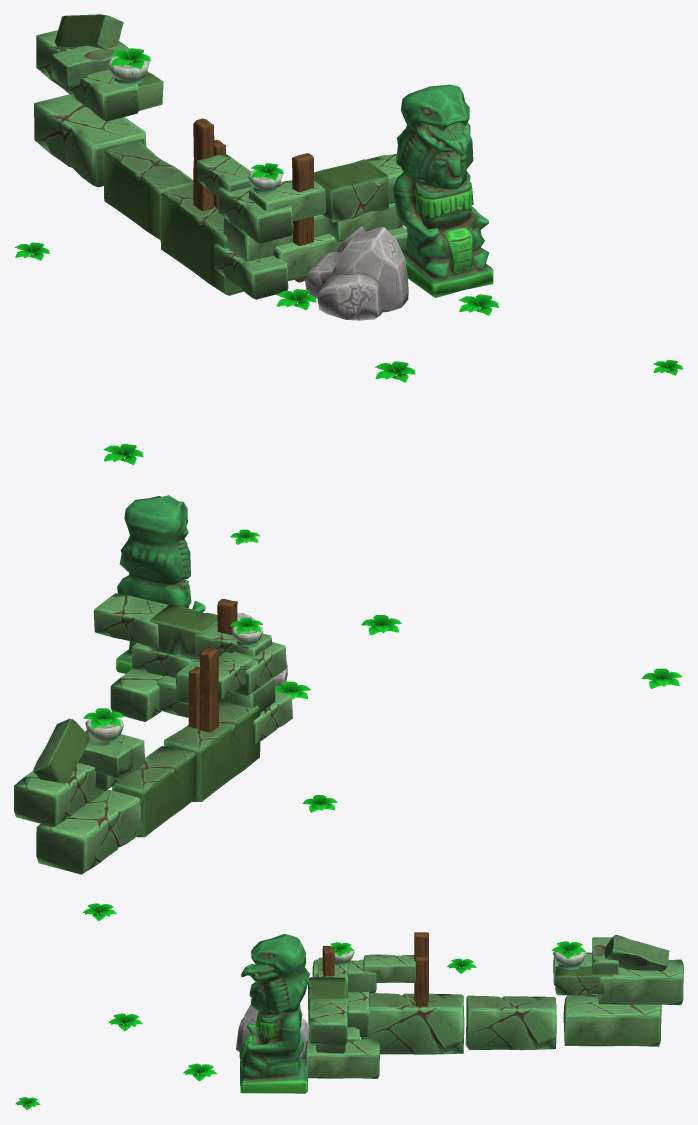
The model's file is deco_up_right.obj.
3 views of the same model, one above another, from view 1: azimuth 30°, elevation 25°; view 2: azimuth 150°, elevation 25°; view 3: azimuth 270°, elevation 25° (orthographic). The views are drawn at different scales.
Parts seen in each view (by area): view 1: Cube_001.001, rock1_low.003, brick3_low.037, brick3_low.033, brick3_low.075, brick3_low.081, brick3_low.079, brick3_low.077, brick3_low.083, brick2_low.015, brick2_low.014, brick3_low.054 (+10 smaller); view 2: Cube_001.001, brick3_low.037, brick3_low.075, brick3_low.033, brick3_low.076, brick3_low.082, brick3_low.081, brick2_low.015, brick3_low.113, wood1.020, brick2_low.014, brick3_low.079 (+9 smaller); view 3: Cube_001.001, brick3_low.075, brick3_low.033, brick3_low.037, brick3_low.076, brick3_low.113, brick3_low.082, brick2_low.015, brick3_low.080, brick3_low.031, brick3_low.081, brick3_low.079 (+12 smaller).
Boxes of the visible parts, x1=… form: Cube_001.001: x1=393, y1=84, x2=493, y2=297; rock1_low.003: x1=305, y1=226, x2=408, y2=320; brick3_low.037: x1=34, y1=94, x2=146, y2=187; brick3_low.033: x1=103, y1=141, x2=193, y2=239; brick3_low.075: x1=159, y1=184, x2=243, y2=295; brick3_low.081: x1=314, y1=159, x2=389, y2=222; brick3_low.079: x1=218, y1=186, x2=292, y2=243; brick3_low.077: x1=214, y1=244, x2=288, y2=299; brick3_low.083: x1=65, y1=69, x2=139, y2=121; brick2_low.015: x1=54, y1=14, x2=123, y2=49; brick2_low.014: x1=51, y1=41, x2=129, y2=87; brick3_low.054: x1=248, y1=180, x2=325, y2=221; Cube_001.001: x1=116, y1=495, x2=205, y2=673; brick3_low.037: x1=36, y1=789, x2=141, y2=874; brick3_low.075: x1=164, y1=700, x2=260, y2=801; brick3_low.033: x1=112, y1=746, x2=196, y2=837; brick3_low.076: x1=14, y1=762, x2=106, y2=827; brick3_low.082: x1=93, y1=593, x2=168, y2=648; brick3_low.081: x1=149, y1=604, x2=217, y2=662; brick2_low.015: x1=33, y1=718, x2=90, y2=783; brick3_low.113: x1=110, y1=668, x2=163, y2=721; wood1.020: x1=199, y1=646, x2=218, y2=732; brick2_low.014: x1=78, y1=736, x2=132, y2=777; brick3_low.079: x1=232, y1=642, x2=286, y2=695; Cube_001.001: x1=239, y1=934, x2=310, y2=1093; brick3_low.075: x1=361, y1=993, x2=464, y2=1054; brick3_low.033: x1=465, y1=995, x2=556, y2=1050; brick3_low.037: x1=563, y1=994, x2=661, y2=1046; brick3_low.076: x1=598, y1=959, x2=683, y2=1005; brick3_low.113: x1=305, y1=1039, x2=380, y2=1078; brick3_low.082: x1=309, y1=997, x2=348, y2=1045; brick2_low.015: x1=604, y1=935, x2=669, y2=971; brick3_low.080: x1=363, y1=954, x2=415, y2=983; brick3_low.031: x1=555, y1=966, x2=613, y2=995; brick3_low.081: x1=308, y1=977, x2=347, y2=1024; brick3_low.079: x1=312, y1=959, x2=376, y2=993.
Bounding box in the file's own units: 839 × 311 × 1163.
